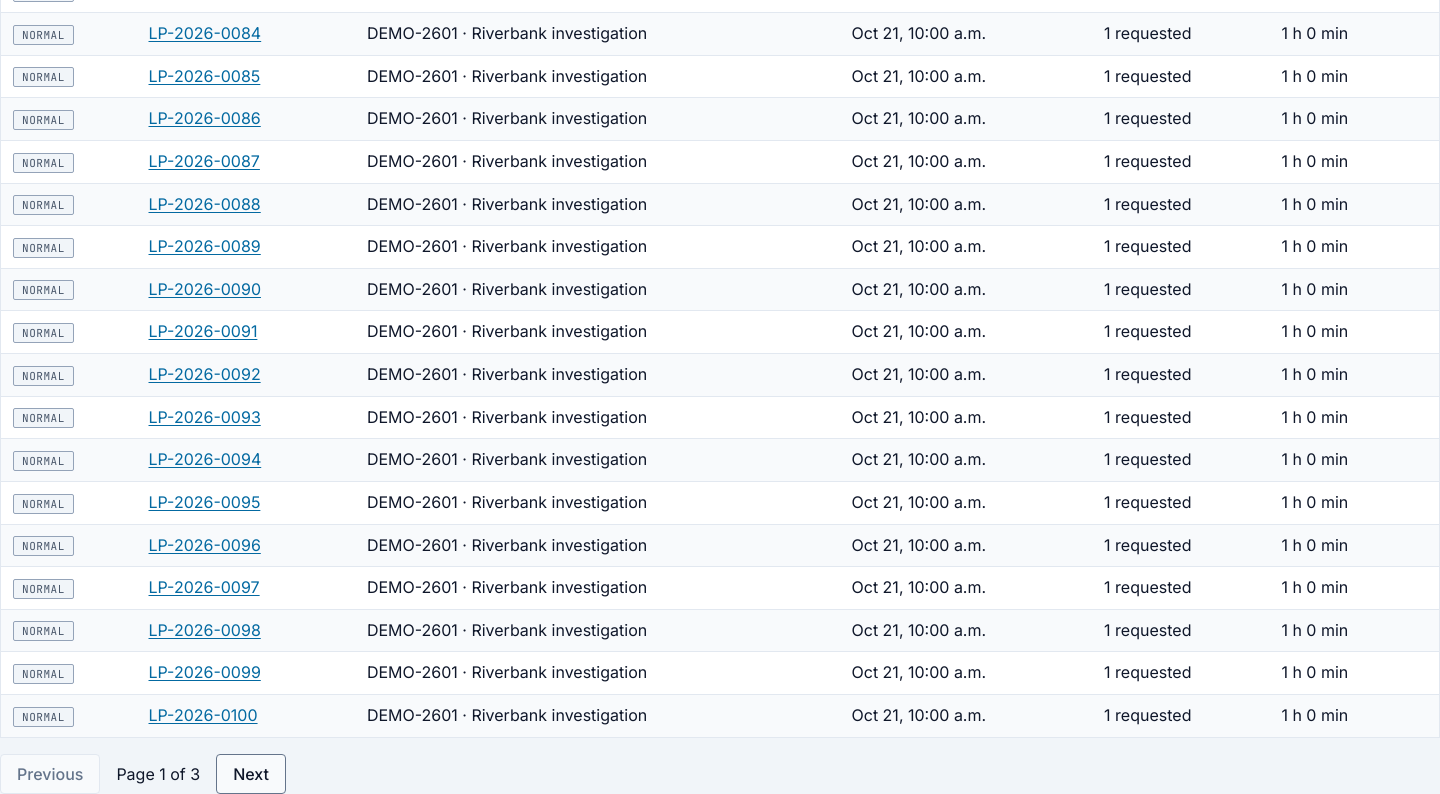
Test case: Lab Testing → Worklist while a page is loading › shows the page being fetched, and a second Next while it loads skips nothing
The image size is (1440, 794).
(page scrolled)
Click the button "Next" at [251, 774], box left=216, top=754, right=286, bottom=793
(page scrolled)
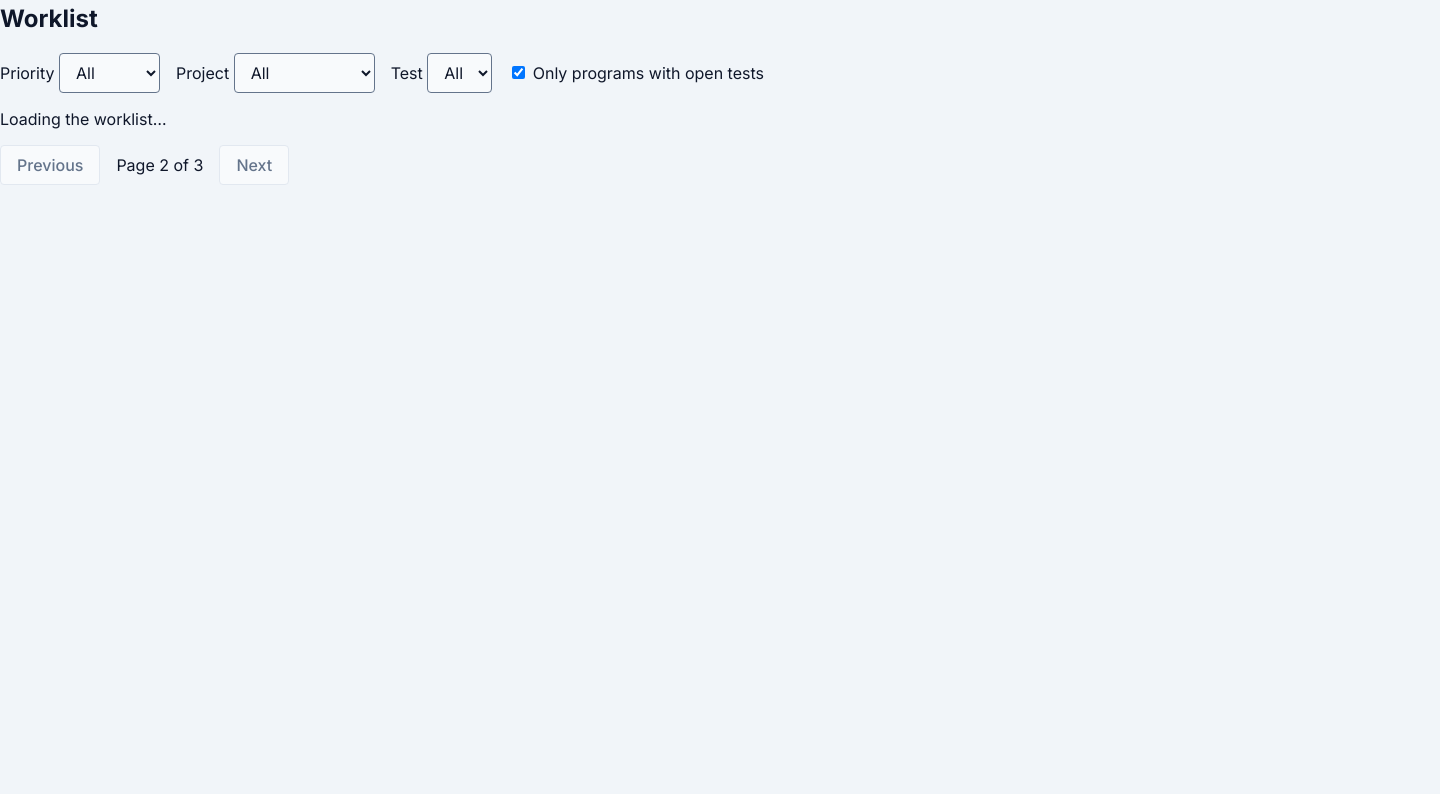
Now the text "Loading the worklist…" is shown, box left=0, top=109, right=166, bottom=129
Now the text "Page 2 of 3" is shown, box left=116, top=155, right=203, bottom=175
Now the button "Next" is disabled
Click the button "Next" at [254, 165], box left=219, top=145, right=289, bottom=185
(page scrolled)
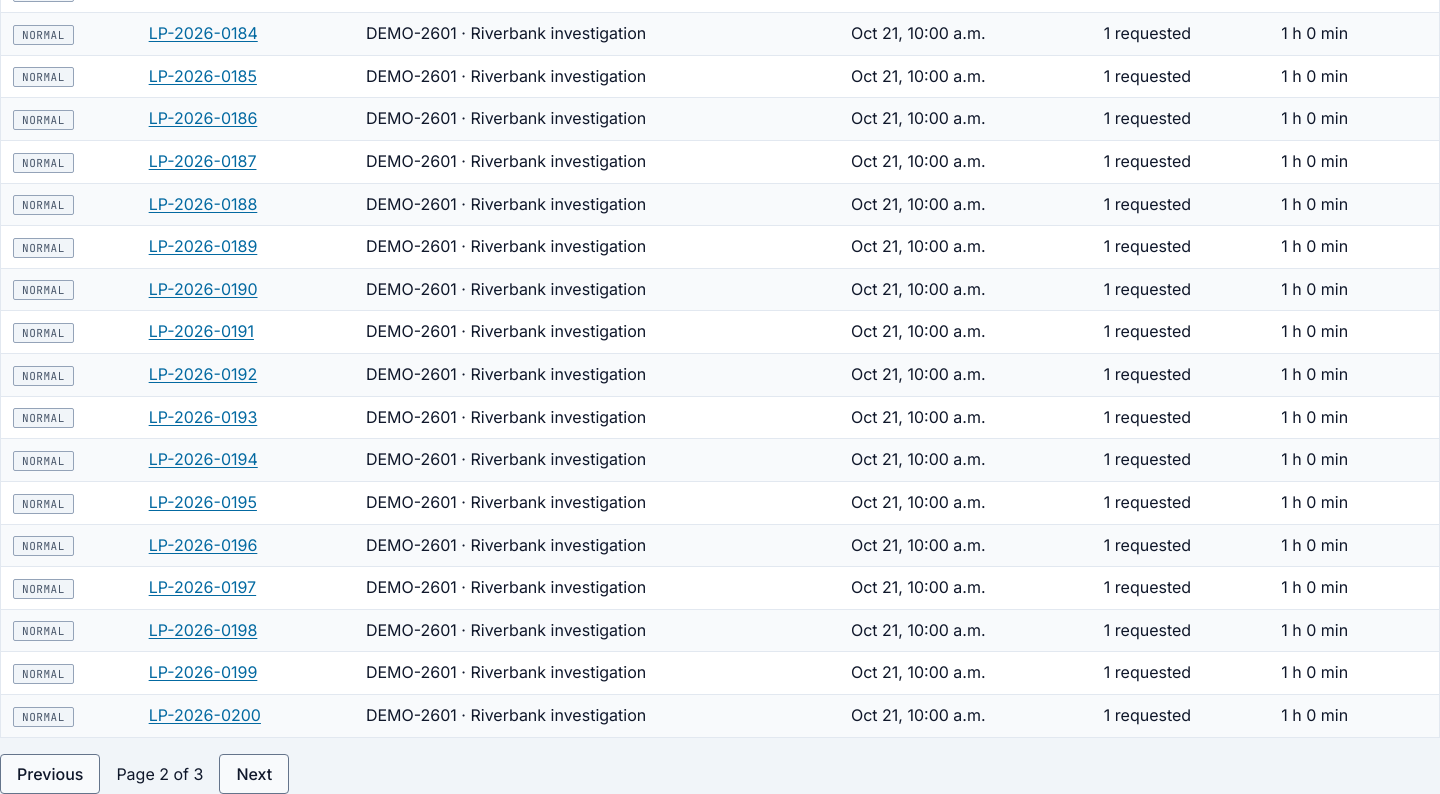
Now the text "Page 2 of 3" is shown, box left=116, top=764, right=203, bottom=784
Now the button "Next" is enabled, box left=219, top=754, right=289, bottom=793
Now the button "Previous" is enabled, box left=0, top=754, right=100, bottom=793
